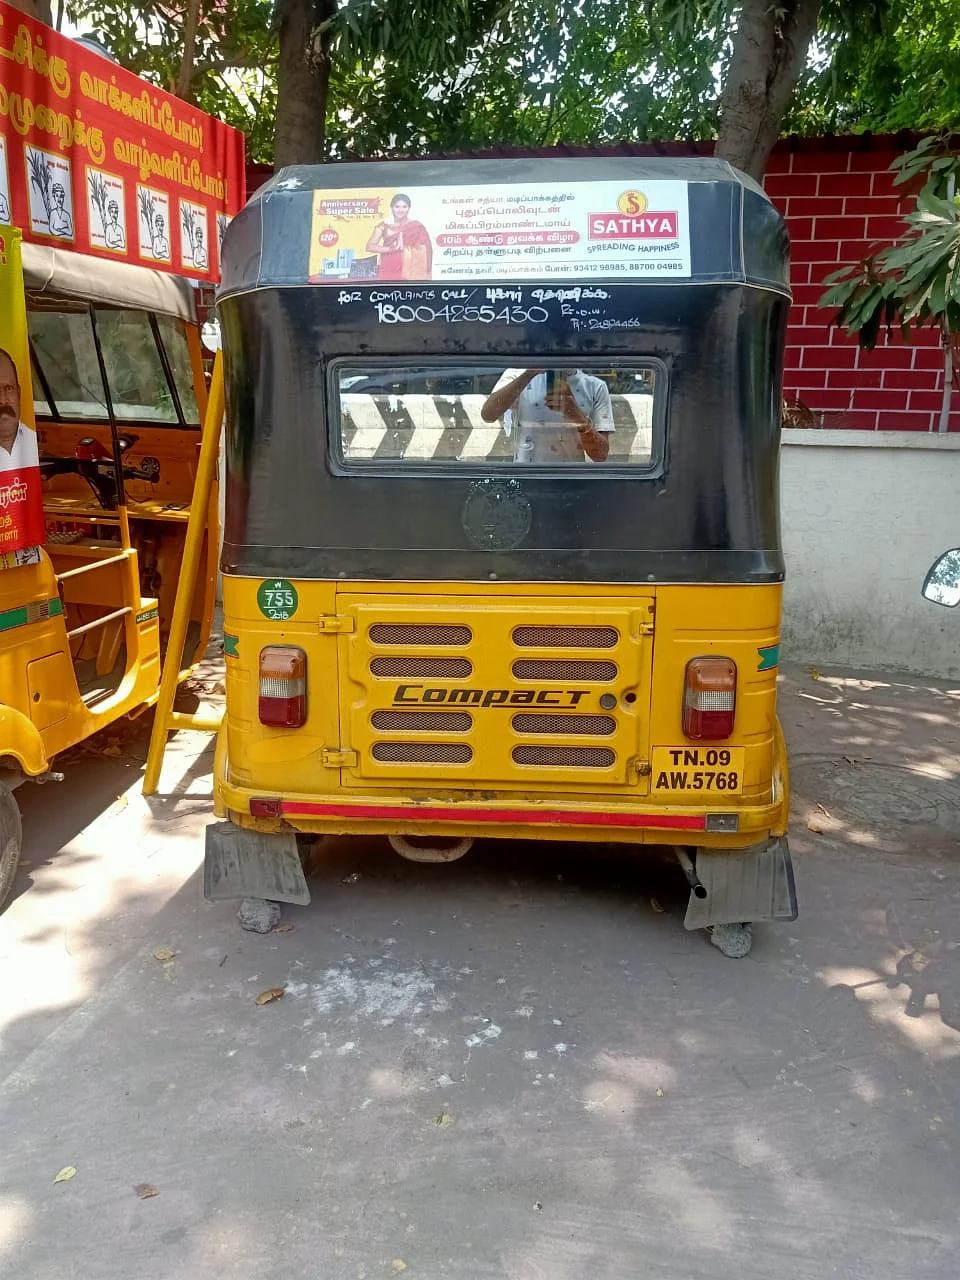auto: (219, 150, 832, 988)
